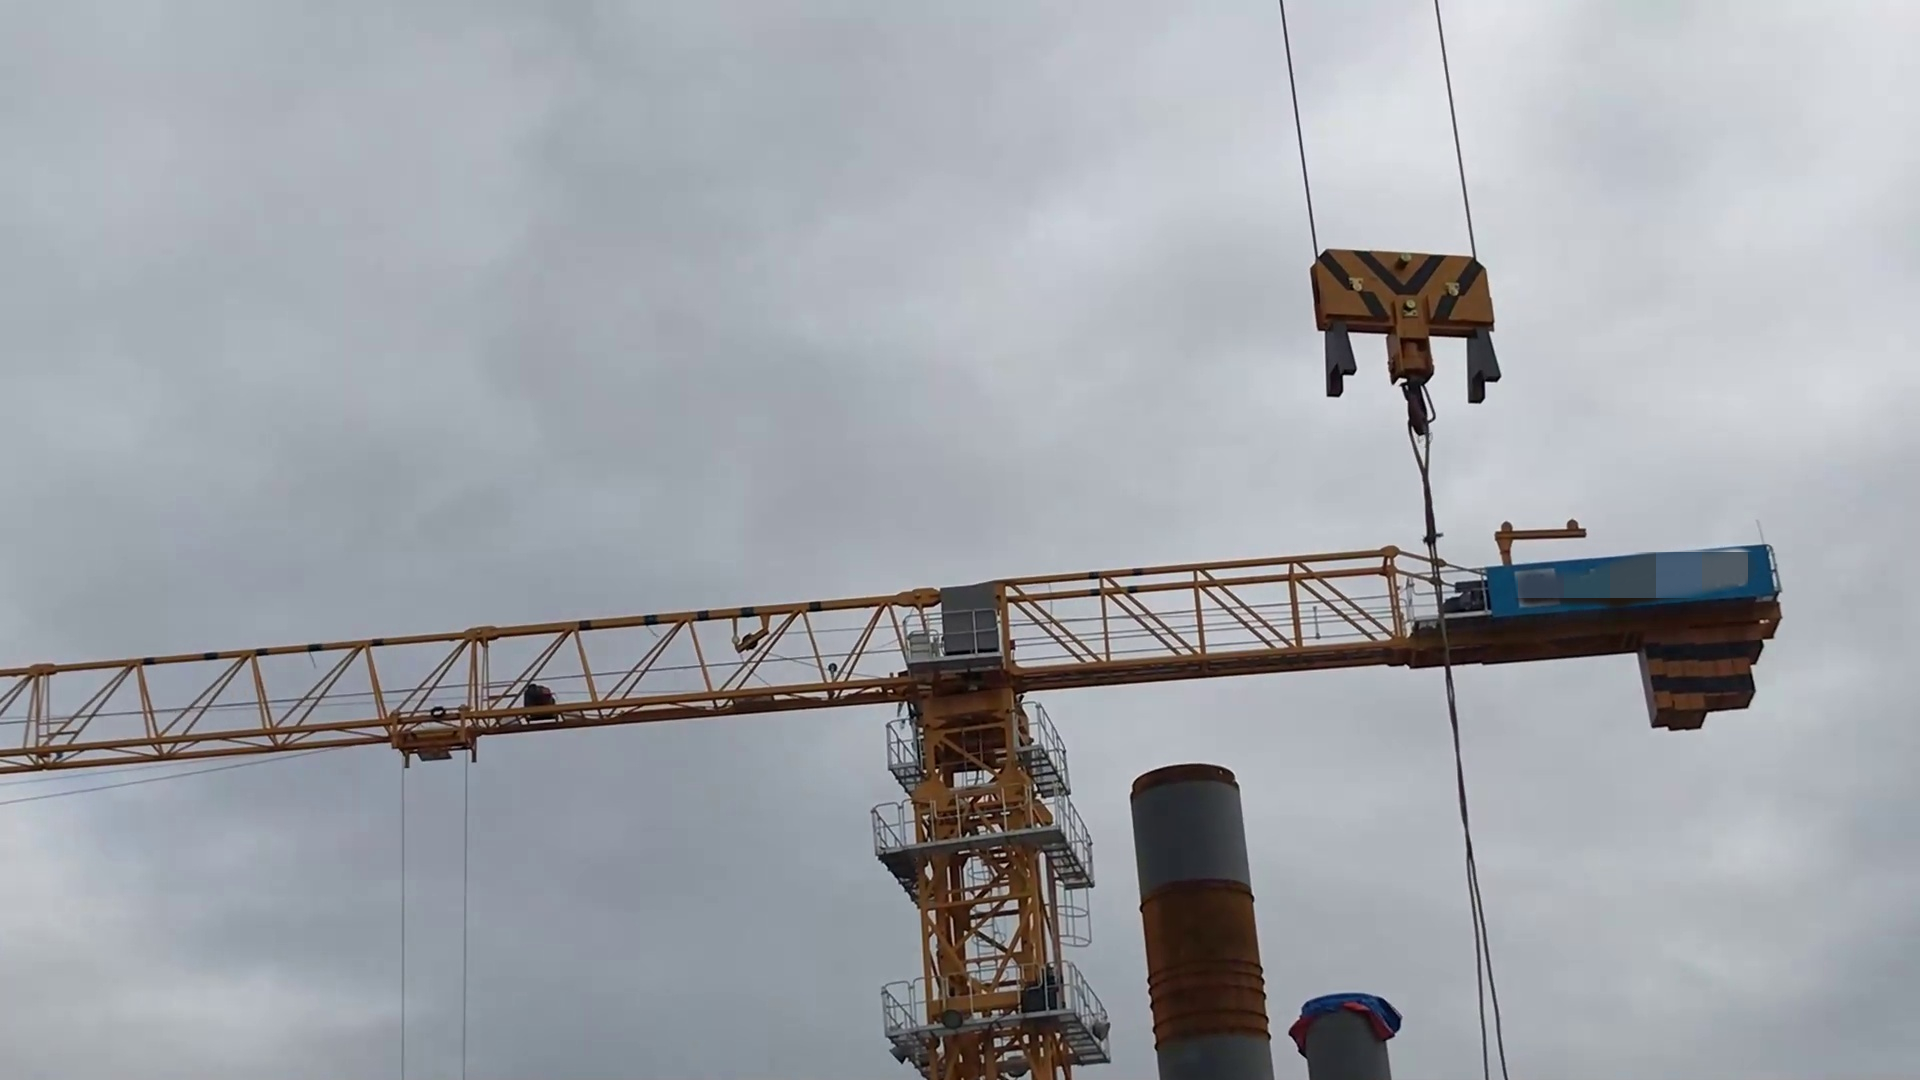hook: (1300, 243, 1510, 438)
